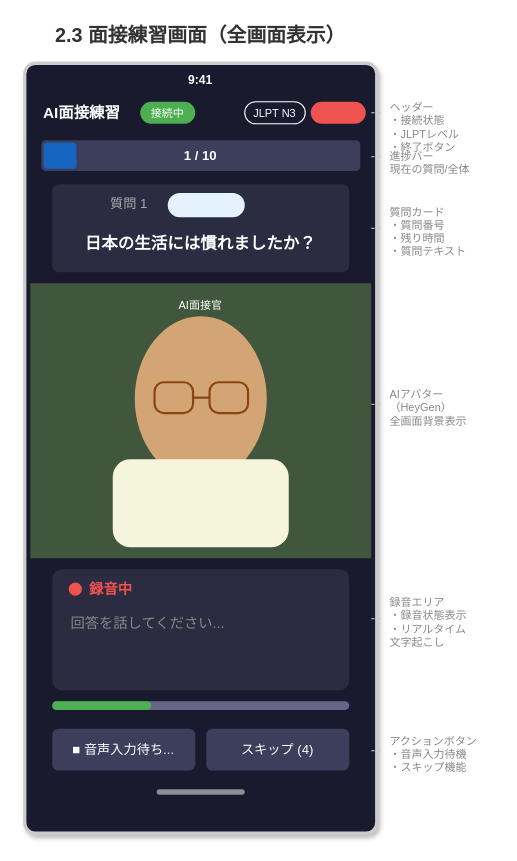
This 517x861 diagram has some shape labels left out. The centre of each missing label's shape, as x and y in pixels:
"× 終了" belongs at point (337, 112).
"残り 29 秒" belongs at point (205, 205).
